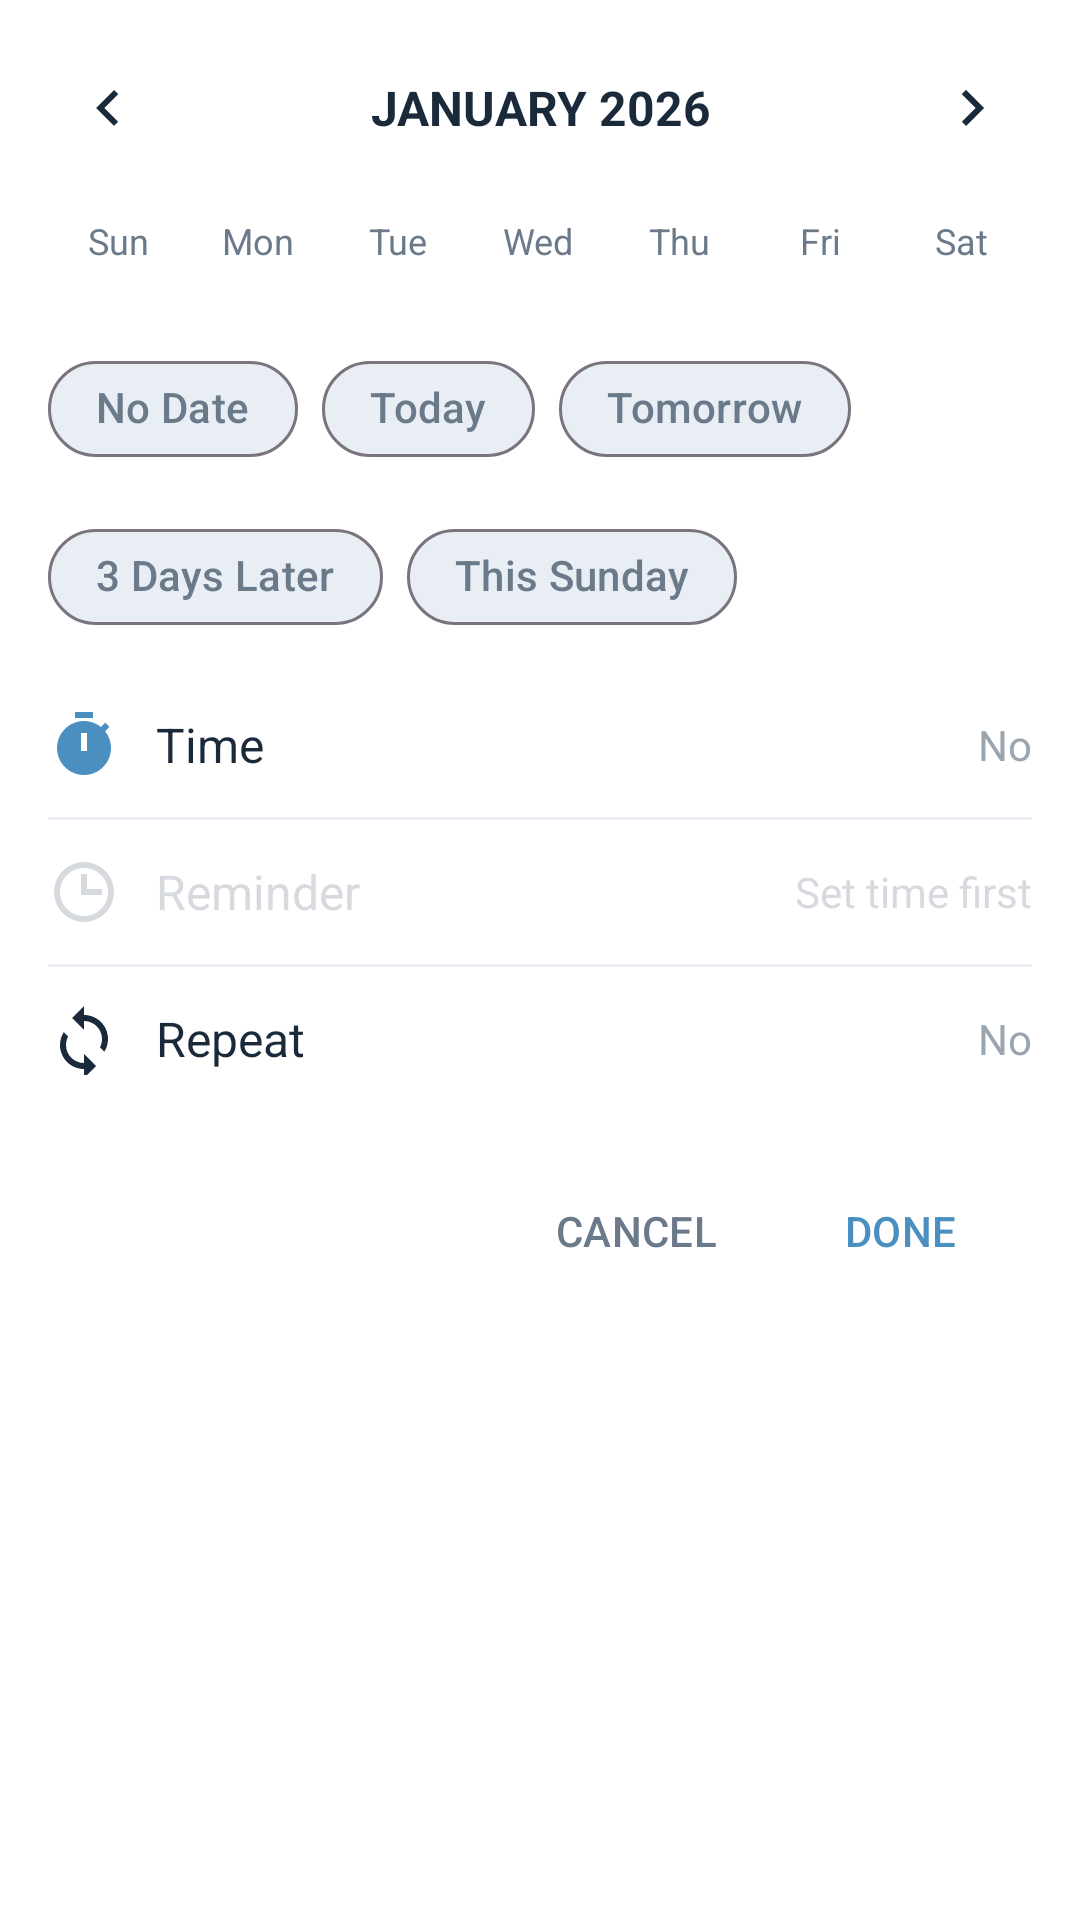

Where to tap for icons on this 1080 x 1920 app screen, as (x=x, y=y):
Next: (x=973, y=108)
Previous: (x=107, y=108)
sync: (x=84, y=1040)
